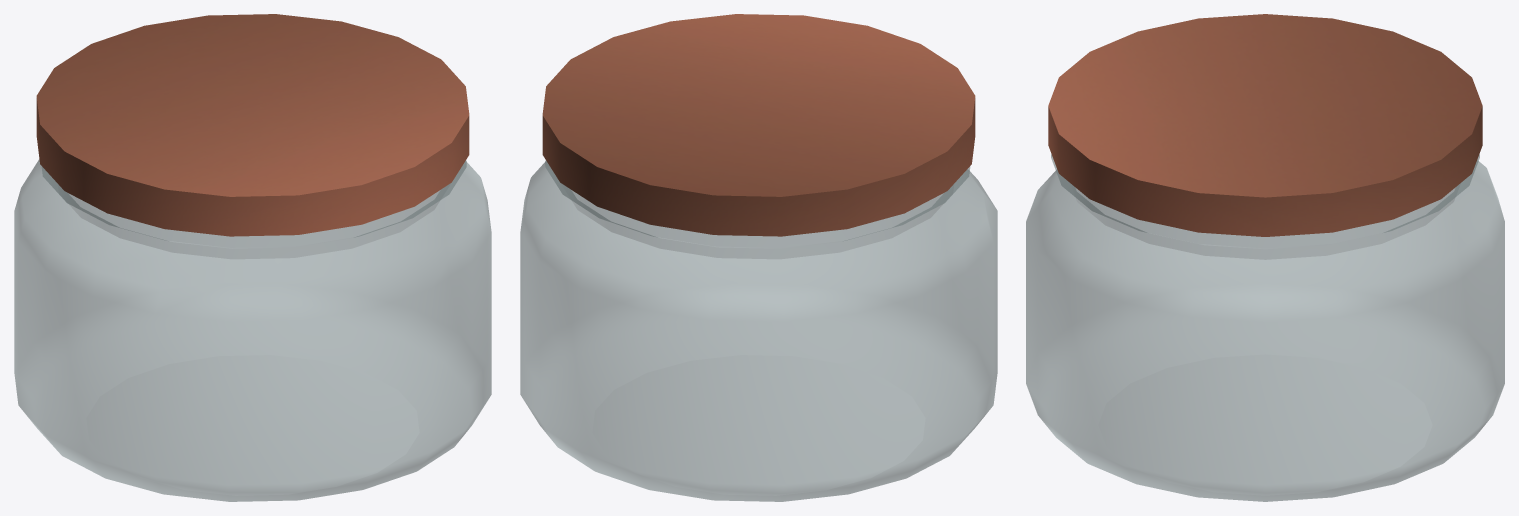
File: Frasco_v3.fbx
3 views of the same model, side by side, from view 1: azimuth 30°, elevation 25°; view 2: azimuth 150°, elevation 25°; view 3: azimuth 270°, elevation 25° (orthographic).
Visible parts, largest first — view 1: Frasco, Tapa; view 2: Frasco, Tapa; view 3: Frasco, Tapa.
Part boxes in pixels (bbox=[...]): Frasco: bbox=[14, 159, 491, 501]; Tapa: bbox=[36, 14, 469, 236]; Frasco: bbox=[520, 160, 997, 501]; Tapa: bbox=[542, 14, 975, 236]; Frasco: bbox=[1026, 154, 1504, 501]; Tapa: bbox=[1048, 14, 1482, 236].
Size of the model in its own units: 1.9 by 1.4 by 1.9.
